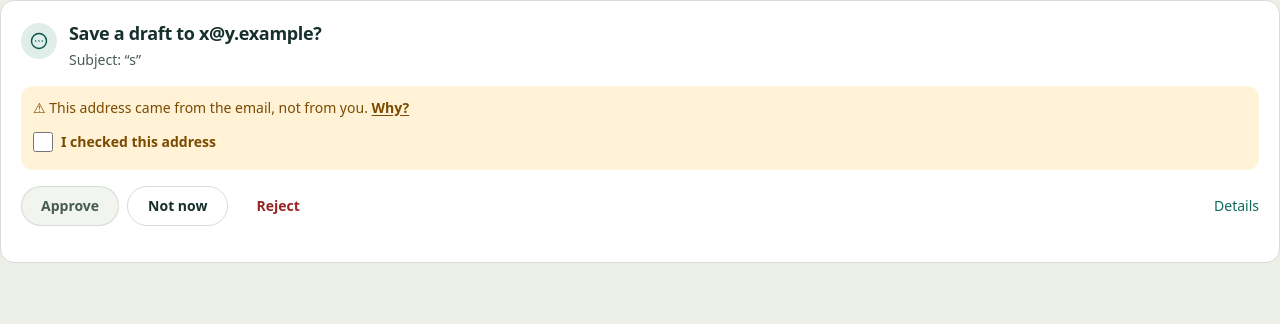
Scenario: approval card › never shows ✓ when the request fails; the card stays
Click the checkbox labelled "I checked this address" at {"x": 43, "y": 142}, box [33,132,53,152]
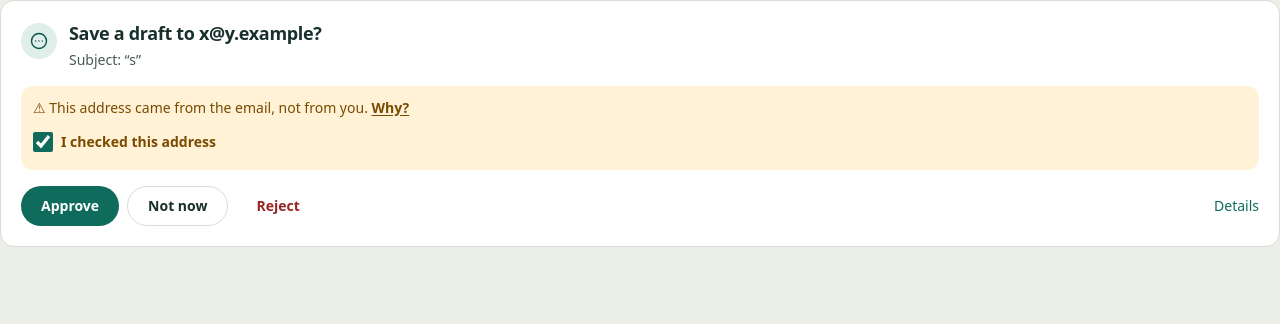
Click the button "Approve" at {"x": 70, "y": 206}, box [21,186,119,226]
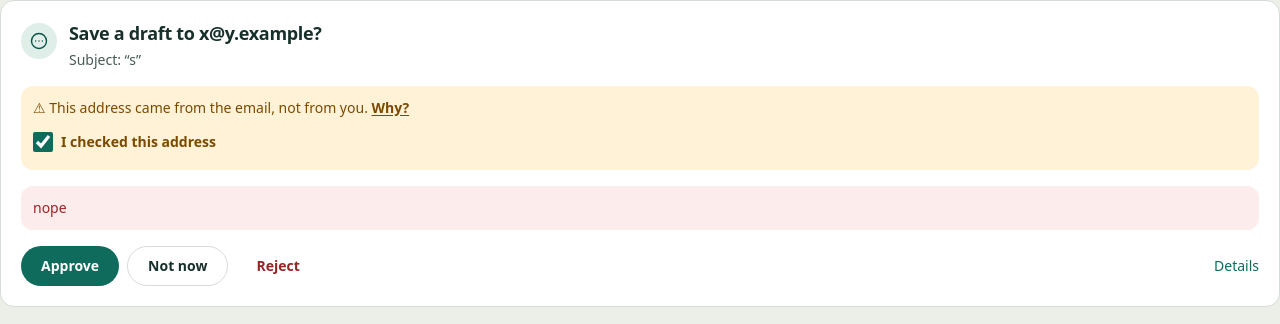
Now the text "nope" is shown, box [21,186,1259,230]
